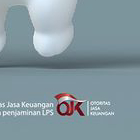ojk: (54, 93, 116, 119)
